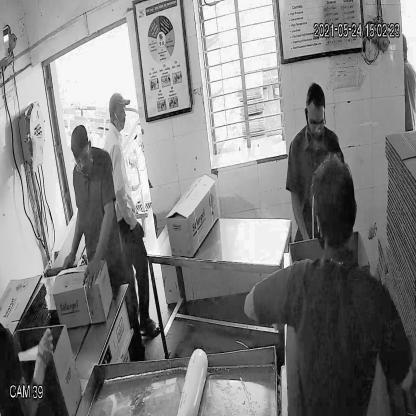goggles: (71, 144, 92, 169), (304, 110, 327, 132)
no_goggles: (110, 103, 129, 121)
